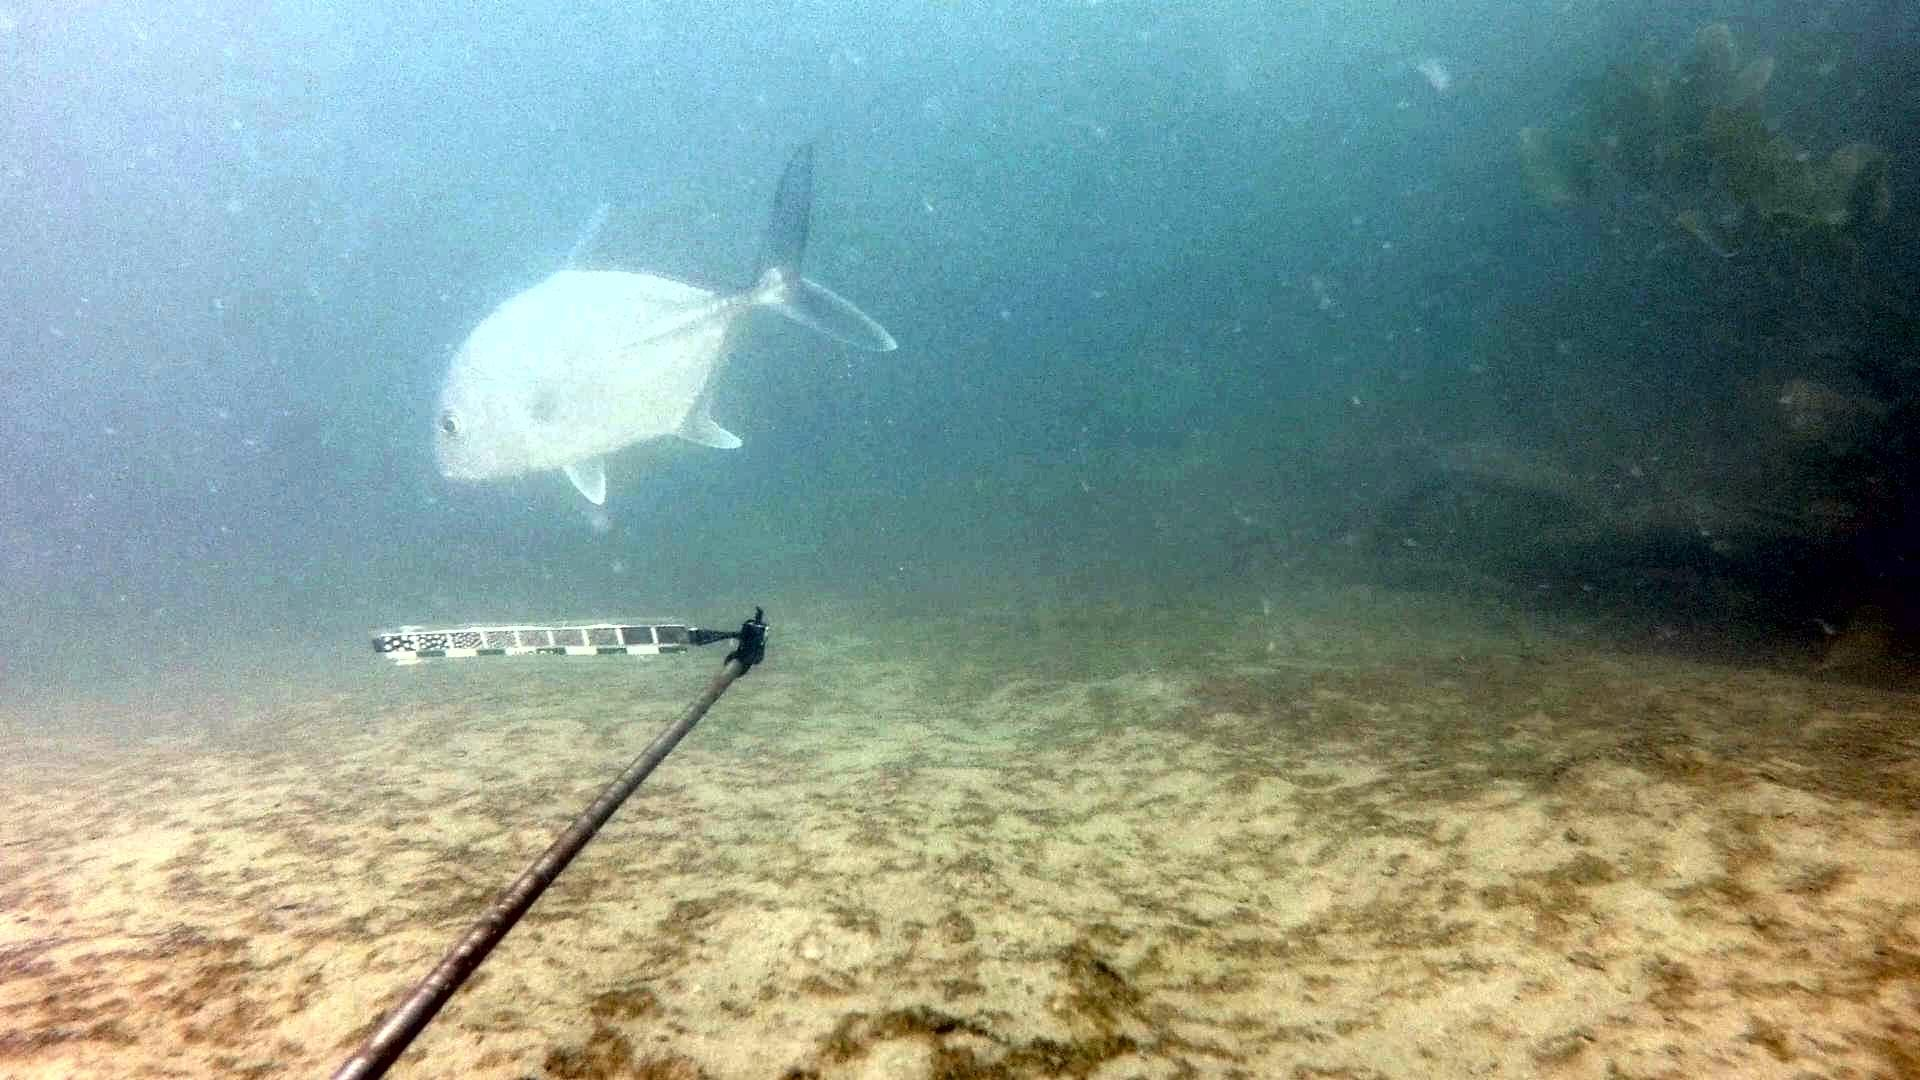caranx: (423, 129, 903, 516)
